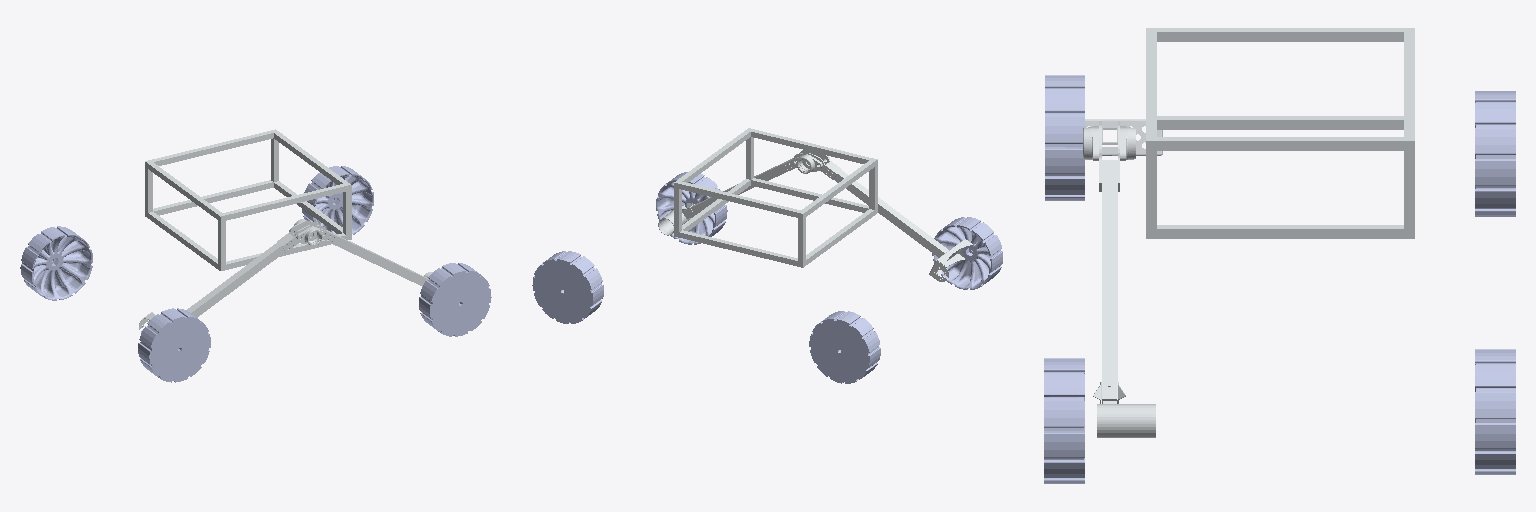
robot.urdf — gövde Urdf Montajı:
<?xml version="1.0" encoding="utf-8"?>
<!-- This URDF was automatically created by SolidWorks to URDF Exporter! Originally created by Stephen Brawner (brawner@gmail.com) 
     Commit Version: 1.6.0-4-g7f85cfe  Build Version: 1.6.7995.38578
     For more information, please see http://wiki.ros.org/sw_urdf_exporter -->
<robot
  name="gövde Urdf Montajı">
  <link
    name="base_link">
    <inertial>
      <origin
        xyz="-2.949E-17 1.5428E-17 -0.1"
        rpy="0 0 0" />
      <mass
        value="4.8384" />
      <inertia
        ixx="0.23457"
        ixy="3.9772E-16"
        ixz="2.4216E-16"
        iyy="0.23457"
        iyz="-1.6475E-16"
        izz="0.39873" />
    </inertial>
    <visual>
      <origin
        xyz="0 0 0"
        rpy="0 0 0" />
      <geometry>
        <mesh
          filename="package://rover_sim/meshes/base_link.STL" />
      </geometry>
      <material
        name="">
        <color
          rgba="0.89804 0.91765 0.92941 1" />
      </material>
    </visual>
    <collision>
      <origin
        xyz="0 0 0"
        rpy="0 0 0" />
      <geometry>
        <mesh
          filename="package://rover_sim/meshes/base_link.STL" />
      </geometry>
    </collision>
  </link>
  <link
    name="Sag suspansiyon merkezi">
    <inertial>
      <origin
        xyz="-0.013037 -0.06437 -0.16884"
        rpy="0 0 0" />
      <mass
        value="1.5553" />
      <inertia
        ixx="0.0047177"
        ixy="6.8194E-08"
        ixz="0.00057519"
        iyy="0.015233"
        iyz="-5.0621E-07"
        izz="0.012072" />
    </inertial>
    <visual>
      <origin
        xyz="0 0 0"
        rpy="0 0 0" />
      <geometry>
        <mesh
          filename="package://rover_sim/meshes/Sag_suspansiyon_merkezi.STL" />
      </geometry>
      <material
        name="">
        <color
          rgba="0.89804 0.91765 0.92941 1" />
      </material>
    </visual>
    <collision>
      <origin
        xyz="0 0 0"
        rpy="0 0 0" />
      <geometry>
        <mesh
          filename="package://rover_sim/meshes/Sag_suspansiyon_merkezi.STL" />
      </geometry>
    </collision>
  </link>
  <joint
    name="Sag Suspansiyon merkezi"
    type="revolute">
    <origin
      xyz="0.045 -0.255 -0.1"
      rpy="0 0 0" />
    <parent
      link="base_link" />
    <child
      link="Sag suspansiyon merkezi" />
    <axis
      xyz="0 1 0" />
    <limit
      lower="-0.5236"
      upper="0.5236"
      effort="0"
      velocity="0" />
  </joint>
  <link
    name="Sag On">
    <inertial>
      <origin
        xyz="3.7311E-11 0.022621 -2.5366E-11"
        rpy="0 0 0" />
      <mass
        value="1.1978" />
      <inertia
        ixx="0.0054603"
        ixy="-2.0079E-12"
        ixz="-1.0867E-13"
        iyy="0.01003"
        iyz="1.7846E-12"
        izz="0.0054603" />
    </inertial>
    <visual>
      <origin
        xyz="0 0 0"
        rpy="0 0 0" />
      <geometry>
        <mesh
          filename="package://rover_sim/meshes/Sag_On.STL" />
      </geometry>
      <material
        name="">
        <color
          rgba="0.79216 0.81961 0.93333 1" />
      </material>
    </visual>
    <collision>
      <origin
        xyz="0 0 0"
        rpy="0 0 0" />
      <geometry>
        <mesh
          filename="package://rover_sim/meshes/Sag_On.STL" />
      </geometry>
    </collision>
  </link>
  <joint
    name="Joint Sag On"
    type="continuous">
    <origin
      xyz="0.51315 -0.1837 -0.33036"
      rpy="0 0 0" />
    <parent
      link="Sag suspansiyon merkezi" />
    <child
      link="Sag On" />
    <axis
      xyz="0 1 0" />
    <limit
      lower="0"
      upper="0"
      effort="0"
      velocity="0" />
  </joint>
  <link
    name="Sag Arka">
    <inertial>
      <origin
        xyz="-5.3777E-12 0.022621 -4.6646E-11"
        rpy="0 0 0" />
      <mass
        value="1.1978" />
      <inertia
        ixx="0.0054603"
        ixy="5.4007E-13"
        ixz="4.5208E-13"
        iyy="0.01003"
        iyz="2.6544E-12"
        izz="0.0054603" />
    </inertial>
    <visual>
      <origin
        xyz="0 0 0"
        rpy="0 0 0" />
      <geometry>
        <mesh
          filename="package://rover_sim/meshes/Sag_Arka.STL" />
      </geometry>
      <material
        name="">
        <color
          rgba="0.79216 0.81961 0.93333 1" />
      </material>
    </visual>
    <collision>
      <origin
        xyz="0 0 0"
        rpy="0 0 0" />
      <geometry>
        <mesh
          filename="package://rover_sim/meshes/Sag_Arka.STL" />
      </geometry>
    </collision>
  </link>
  <joint
    name="Joint Sag Arka"
    type="continuous">
    <origin
      xyz="-0.55762 -0.1827 -0.24797"
      rpy="0 0 0" />
    <parent
      link="Sag suspansiyon merkezi" />
    <child
      link="Sag Arka" />
    <axis
      xyz="0 1 0" />
    <limit
      lower="0"
      upper="0"
      effort="0"
      velocity="0" />
  </joint>
  <link
    name="Sol Suspensiyon merkezi">
    <inertial>
      <origin
        xyz="-0.013037 0.06437 -0.16884"
        rpy="0 0 0" />
      <mass
        value="1.5553" />
      <inertia
        ixx="0.0047177"
        ixy="6.8194E-08"
        ixz="0.00057519"
        iyy="0.015233"
        iyz="-5.0621E-07"
        izz="0.012072" />
    </inertial>
    <visual>
      <origin
        xyz="0 0 0"
        rpy="0 0 0" />
      <geometry>
        <mesh
          filename="package://rover_sim/meshes/Sol_Suspensiyon_merkezi.STL" />
      </geometry>
      <material
        name="">
        <color
          rgba="0.89804 0.91765 0.92941 1" />
      </material>
    </visual>
    <collision>
      <origin
        xyz="0 0 0"
        rpy="0 0 0" />
      <geometry>
        <mesh
          filename="package://rover_sim/meshes/Sol_Suspensiyon_merkezi.STL" />
      </geometry>
    </collision>
  </link>
  <joint
    name="Sol Suspensiyon merkezi"
    type="revolute">
    <origin
      xyz="0.045 0.255 -0.1"
      rpy="0 0 0" />
    <parent
      link="base_link" />
    <child
      link="Sol Suspensiyon merkezi" />
    <axis
      xyz="0 1 0" />
    <limit
      lower="-0.5236"
      upper="0.5236"
      effort="0"
      velocity="0" />
  </joint>
  <link
    name="Sol On">
    <inertial>
      <origin
        xyz="-1.4454E-11 -0.022621 4.9675E-11"
        rpy="0 0 0" />
      <mass
        value="1.1978" />
      <inertia
        ixx="0.0054603"
        ixy="-7.7309E-13"
        ixz="-8.3628E-13"
        iyy="0.01003"
        iyz="2.6571E-12"
        izz="0.0054603" />
    </inertial>
    <visual>
      <origin
        xyz="0 0 0"
        rpy="0 0 0" />
      <geometry>
        <mesh
          filename="package://rover_sim/meshes/Sol_On.STL" />
      </geometry>
      <material
        name="">
        <color
          rgba="0.79216 0.81961 0.93333 1" />
      </material>
    </visual>
    <collision>
      <origin
        xyz="0 0 0"
        rpy="0 0 0" />
      <geometry>
        <mesh
          filename="package://rover_sim/meshes/Sol_On.STL" />
      </geometry>
    </collision>
  </link>
  <joint
    name="Sol On "
    type="continuous">
    <origin
      xyz="0.52892 0.1827 -0.30434"
      rpy="0 0 0" />
    <parent
      link="Sol Suspensiyon merkezi" />
    <child
      link="Sol On" />
    <axis
      xyz="0 -1 0" />
    <limit
      lower="0"
      upper="0"
      effort="0"
      velocity="0" />
  </joint>
  <link
    name="Sol Arka">
    <inertial>
      <origin
        xyz="-6.0615E-11 -0.022621 1.1053E-11"
        rpy="0 0 0" />
      <mass
        value="1.1978" />
      <inertia
        ixx="0.0054603"
        ixy="-2.8483E-12"
        ixz="4.1807E-13"
        iyy="0.01003"
        iyz="4.2492E-13"
        izz="0.0054603" />
    </inertial>
    <visual>
      <origin
        xyz="0 0 0"
        rpy="0 0 0" />
      <geometry>
        <mesh
          filename="package://rover_sim/meshes/Sol_Arka.STL" />
      </geometry>
      <material
        name="">
        <color
          rgba="0.79216 0.81961 0.93333 1" />
      </material>
    </visual>
    <collision>
      <origin
        xyz="0 0 0"
        rpy="0 0 0" />
      <geometry>
        <mesh
          filename="package://rover_sim/meshes/Sol_Arka.STL" />
      </geometry>
    </collision>
  </link>
  <joint
    name="Sol Arka"
    type="continuous">
    <origin
      xyz="-0.54459 0.1827 -0.27547"
      rpy="0 0 0" />
    <parent
      link="Sol Suspensiyon merkezi" />
    <child
      link="Sol Arka" />
    <axis
      xyz="0 -1 0" />
    <limit
      lower="0"
      upper="0"
      effort="0"
      velocity="0" />
  </joint>
</robot>

--- Facts derived from the render (not from the file) ---
The picture shows the robot from 3 angles, left to right: view 1: azimuth 30°, elevation 25°; view 2: azimuth 150°, elevation 25°; view 3: azimuth 270°, elevation 25°; orthographic projection.
Robot: gövde Urdf Montajı — 7 links, 6 joints (2 revolute, 4 continuous); root link base_link; default pose: all joints at 0.
Links seen in each view (by area): view 1: base_link, Sag Arka, Sag On, Sol Arka, Sag suspansiyon merkezi, Sol On; view 2: base_link, Sag suspansiyon merkezi, Sol On, Sol Arka, Sag Arka, Sag On; view 3: base_link, Sag suspansiyon merkezi, Sag On, Sol On, Sol Arka, Sag Arka.
Link boxes in pixels (x1,y1,x2,y2): base_link: (145,129,351,270); Sag Arka: (138,308,210,382); Sag On: (419,263,491,336); Sol Arka: (20,226,92,300); Sag suspansiyon merkezi: (139,219,432,332); Sol On: (302,166,373,234); base_link: (674,128,877,267); Sag suspansiyon merkezi: (658,150,977,281); Sol On: (532,251,603,323); Sol Arka: (809,311,880,383); Sag Arka: (932,217,1002,289); Sag On: (656,172,727,244); base_link: (1146,28,1414,238); Sag suspansiyon merkezi: (1083,119,1162,437); Sag On: (1044,358,1084,483); Sol On: (1475,349,1515,474); Sol Arka: (1475,91,1515,216); Sag Arka: (1045,75,1084,200).
Size in the robot's own frame: 1.32 by 0.8764 by 0.5478 metres.
6 mesh visuals loaded from 7 distinct referenced files (6 binary STL); not drawn: 1 (reference not matched to a file when rendering).
